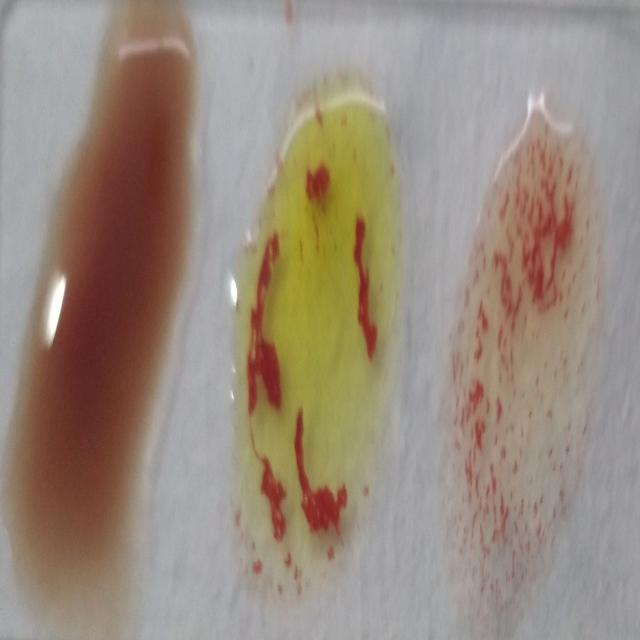B: (234, 65, 395, 614)
D: (459, 76, 603, 602)
